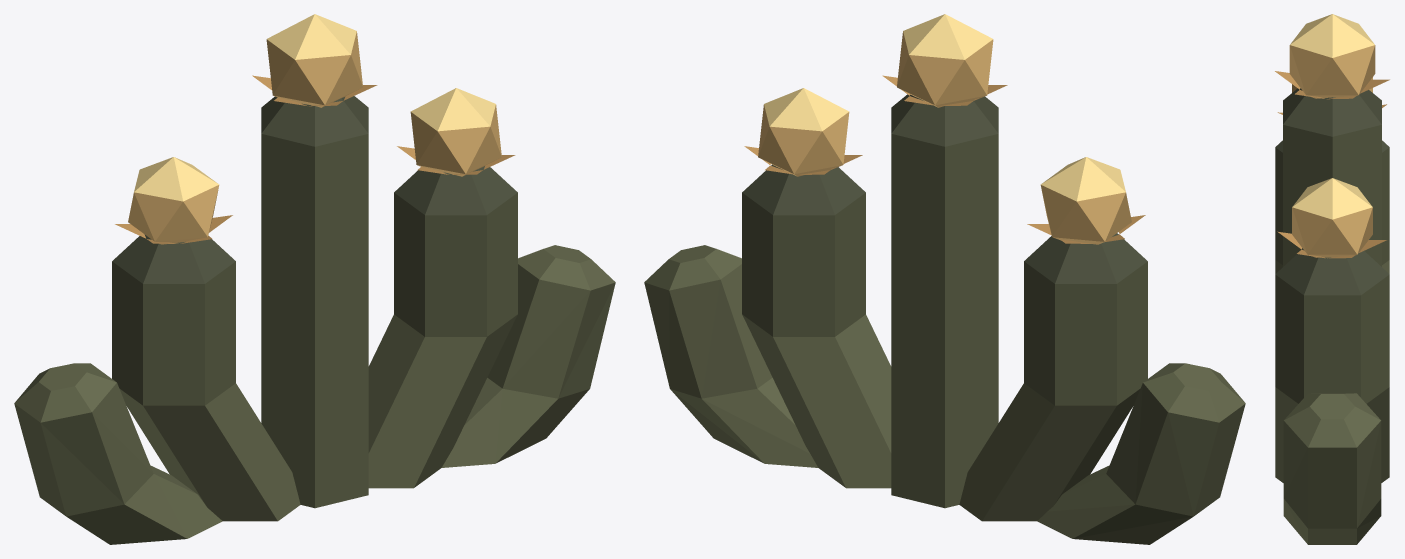
File: TB_D_Env_CactusE_C.FBX
The picture shows the model from 3 angles, left to right: view 1: azimuth 30°, elevation 25°; view 2: azimuth 150°, elevation 25°; view 3: azimuth 270°, elevation 25°; orthographic projection. The views are drawn at different scales.
Visible parts, largest first — view 1: TB_D_Env_CactusE_C; view 2: TB_D_Env_CactusE_C; view 3: TB_D_Env_CactusE_C.
Boxes of the visible parts, x1,y1,x2,y2 form: TB_D_Env_CactusE_C: (14,14,615,544); TB_D_Env_CactusE_C: (644,14,1245,544); TB_D_Env_CactusE_C: (1275,14,1389,544).
Size of the model in its own units: 2.65 by 2.06 by 0.5053.
